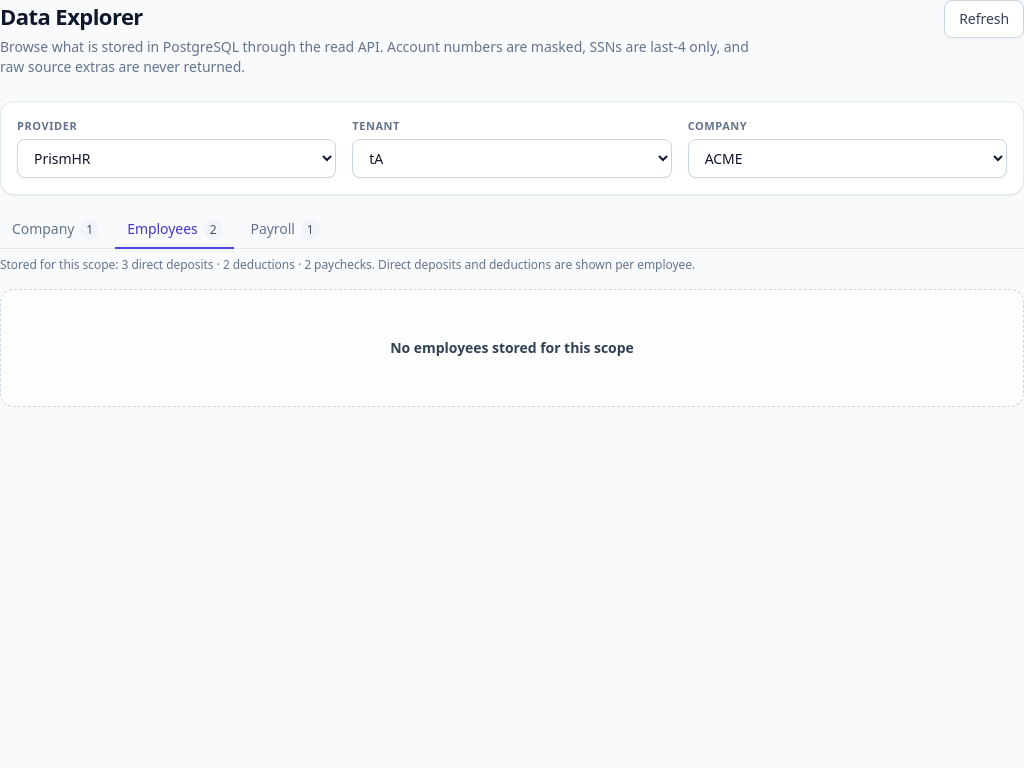
Scenario: Data Explorer › masks a sensitive value even if the API ever returned one
Expected: the dropdown labelled "Provider" is shown, [17,138,336,178]
What coordinates should you click on to do the following:
click the tab "Payroll1"
I would click on:
 (285, 230)
Its box is [238,210,332,248].
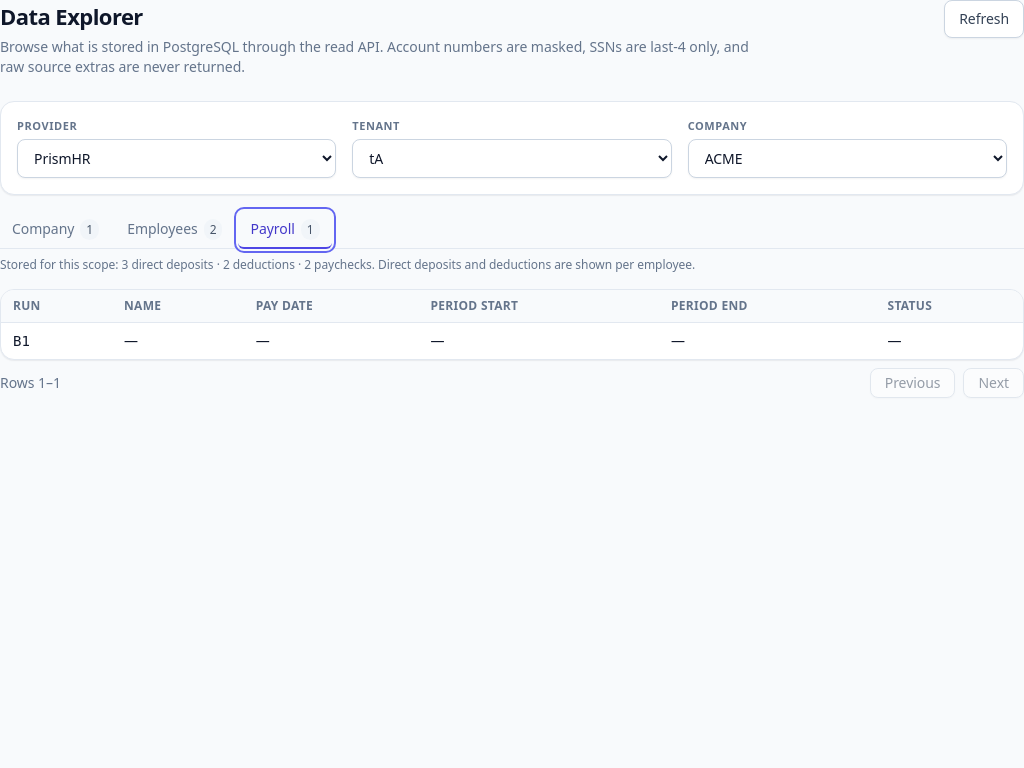
What coordinates should you click on to do the following:
click the text "B1"
I would click on:
 (21, 340)
Its box is [13,332,30,348].
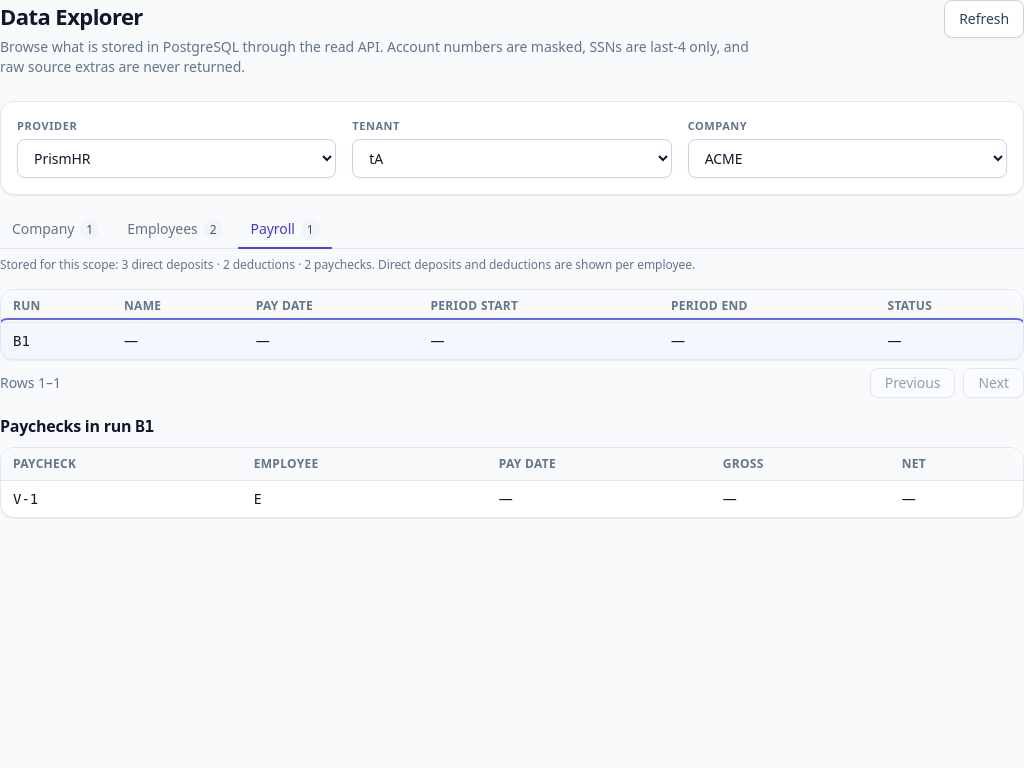
What coordinates should you click on to do the following:
click the text "V-1"
I would click on:
 (26, 498)
Its box is [13,490,38,506].
(page scrolled)
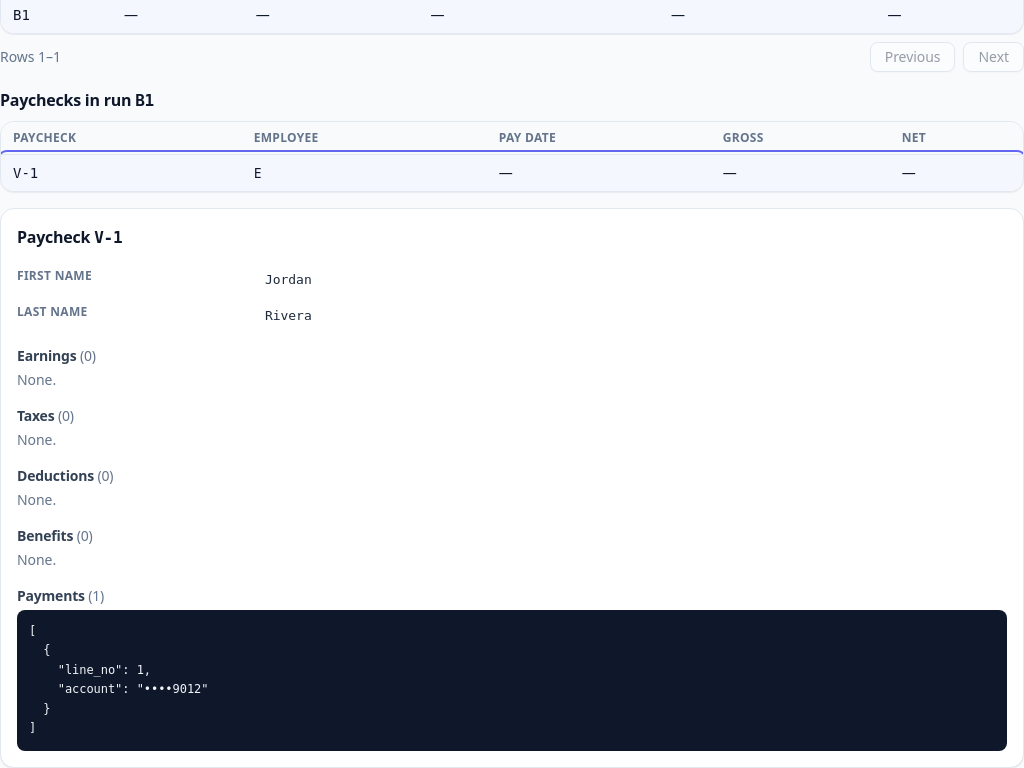
Result: the element with test id "paycheck-detail" is shown
Result: the text "[ { \"line_no\": 1, \"account\": \"••••9012\" } ]" is shown at [17,610,1007,750]
